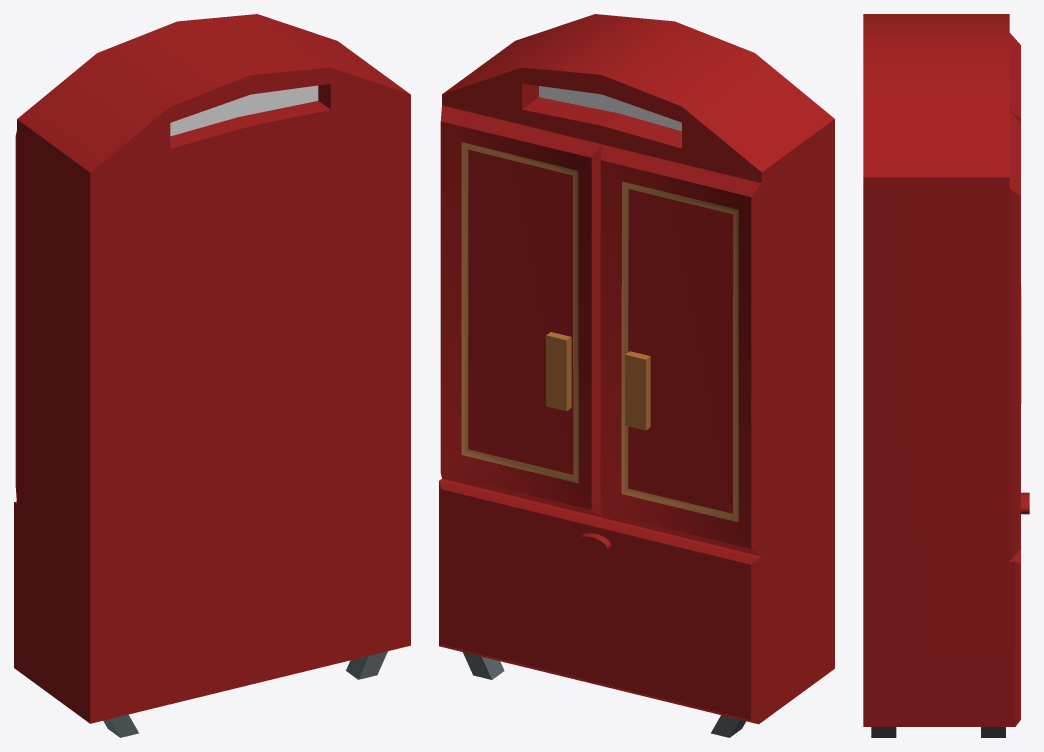
Rendered from STM_Cupboard.fbx.
3 renders of one model, left to right at view 1: azimuth 30°, elevation 25°; view 2: azimuth 150°, elevation 25°; view 3: azimuth 270°, elevation 25°, orthographic.
Visible parts, largest first — view 1: pCube74; view 2: pCube74; view 3: pCube74.
Boxes of the visible parts, bbox=[...] form: pCube74: bbox=[14, 14, 410, 737]; pCube74: bbox=[439, 14, 834, 737]; pCube74: bbox=[863, 14, 1029, 737].
Bounding box in the file's own units: 2.77 × 5.25 × 1.25.
